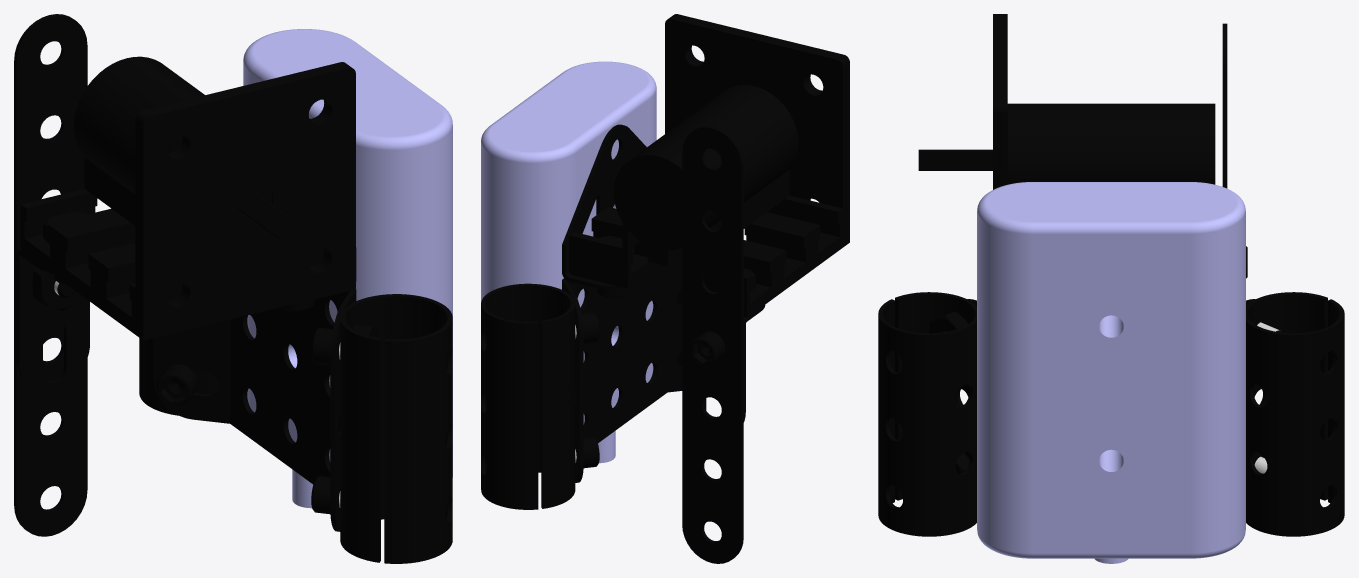
The picture shows the model from 3 angles, left to right: view 1: azimuth 30°, elevation 25°; view 2: azimuth 150°, elevation 25°; view 3: azimuth 270°, elevation 25°; orthographic projection. The views are drawn at different scales.
Parts seen in each view (by area): view 1: cast iron, matte zinc, white-pw-mt11050, matte zinc-4, polished bronze; view 2: matte zinc, cast iron, white-pw-mt11050, matte zinc-4; view 3: white-pw-mt11050, matte zinc, cast iron, polished bronze.
Boxes of the visible parts, x1=… form: cast iron: x1=20, y1=56, x2=355, y2=340; matte zinc: x1=14, y1=14, x2=452, y2=563; white-pw-mt11050: x1=243, y1=29, x2=452, y2=508; matte zinc-4: x1=153, y1=289, x2=356, y2=531; polished bronze: x1=238, y1=191, x2=298, y2=241; matte zinc: x1=481, y1=124, x2=765, y2=563; cast iron: x1=569, y1=14, x2=849, y2=317; white-pw-mt11050: x1=481, y1=61, x2=656, y2=463; matte zinc-4: x1=562, y1=256, x2=682, y2=482; white-pw-mt11050: x1=977, y1=182, x2=1245, y2=563; matte zinc: x1=878, y1=23, x2=1344, y2=536; cast iron: x1=993, y1=14, x2=1215, y2=189; polished bronze: x1=918, y1=149, x2=992, y2=170.
Size of the model in its own units: 5.79 by 8.89 by 7.99.
